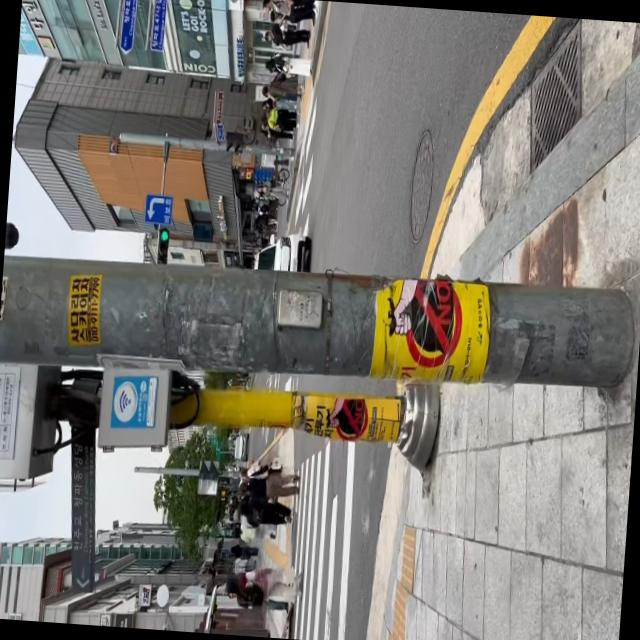building: (6, 54, 290, 265), (0, 509, 284, 638), (16, 0, 302, 88)
car: (253, 230, 311, 274)
